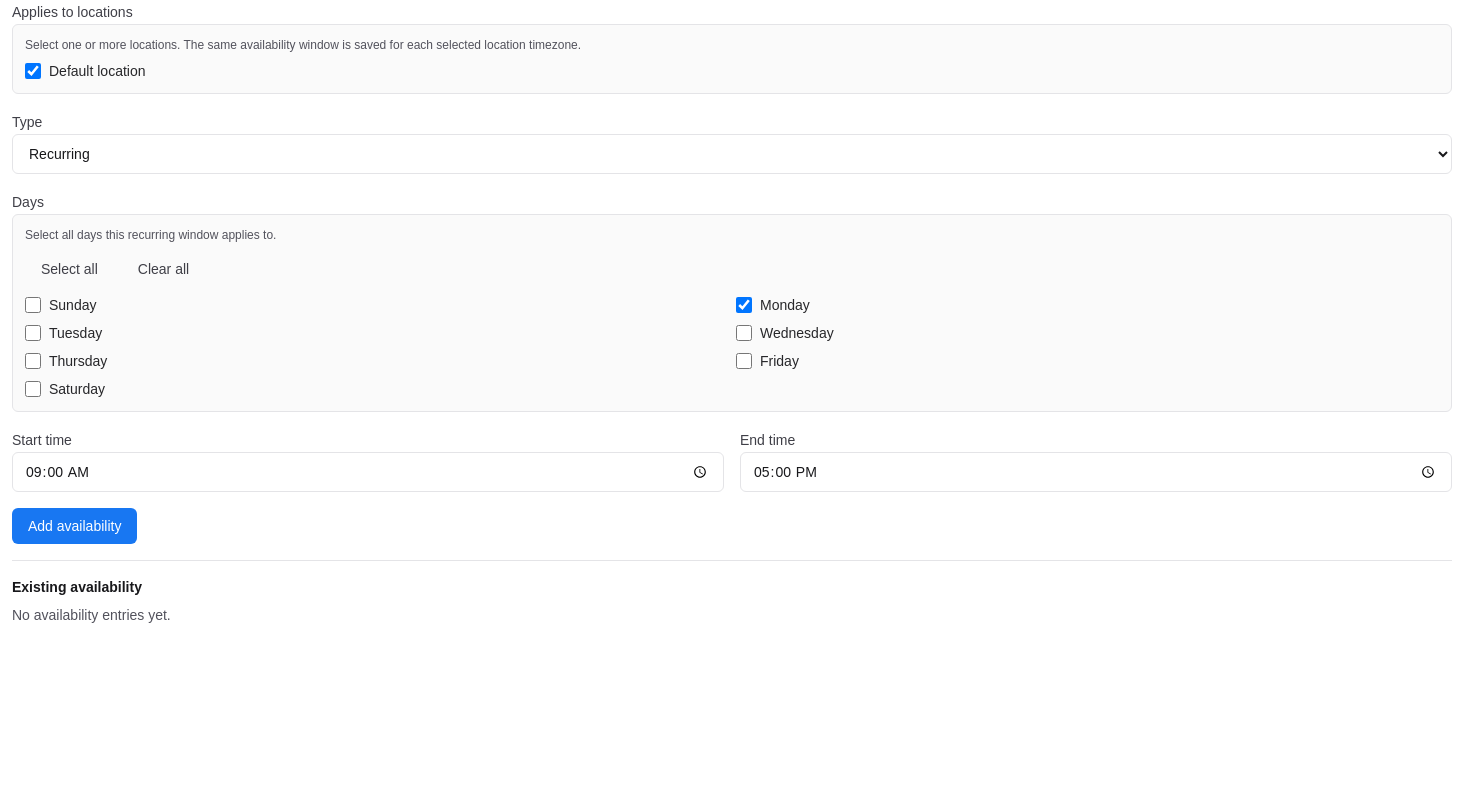
Test: AvailabilityForm › shows success message after submit
Step 1. Click the button "Add availability" → (75, 526), box [12,508,137,544]
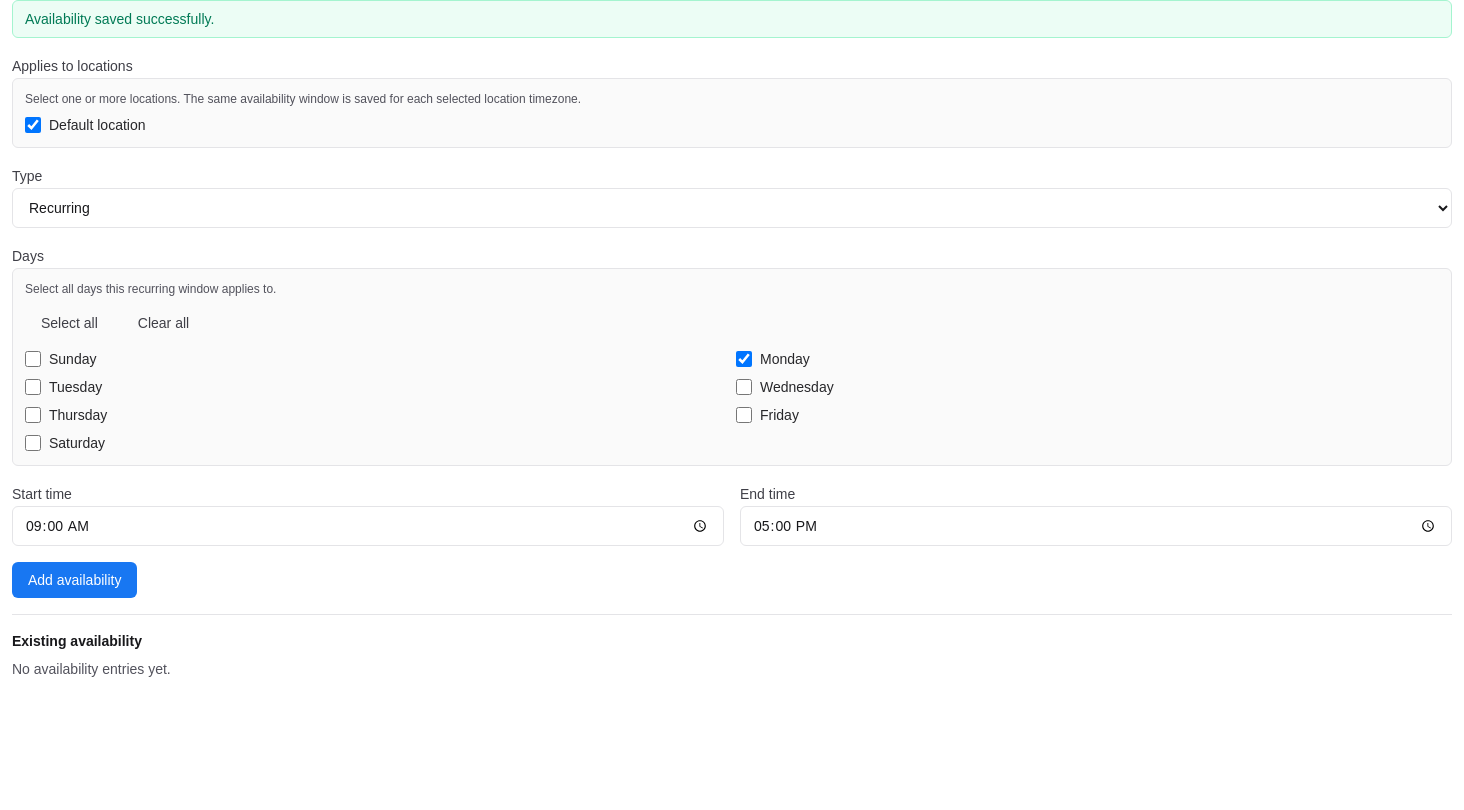
Result: the message shows "Availability saved successfully" at [25,11,214,27]
